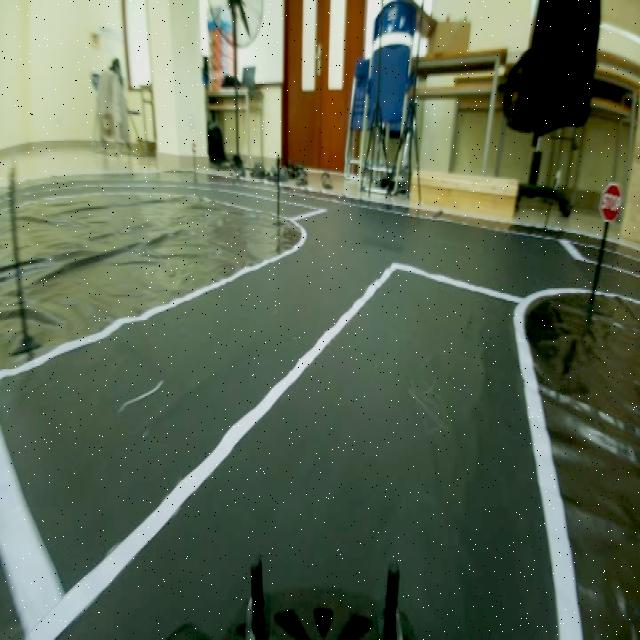stop: (597, 174, 624, 234)
